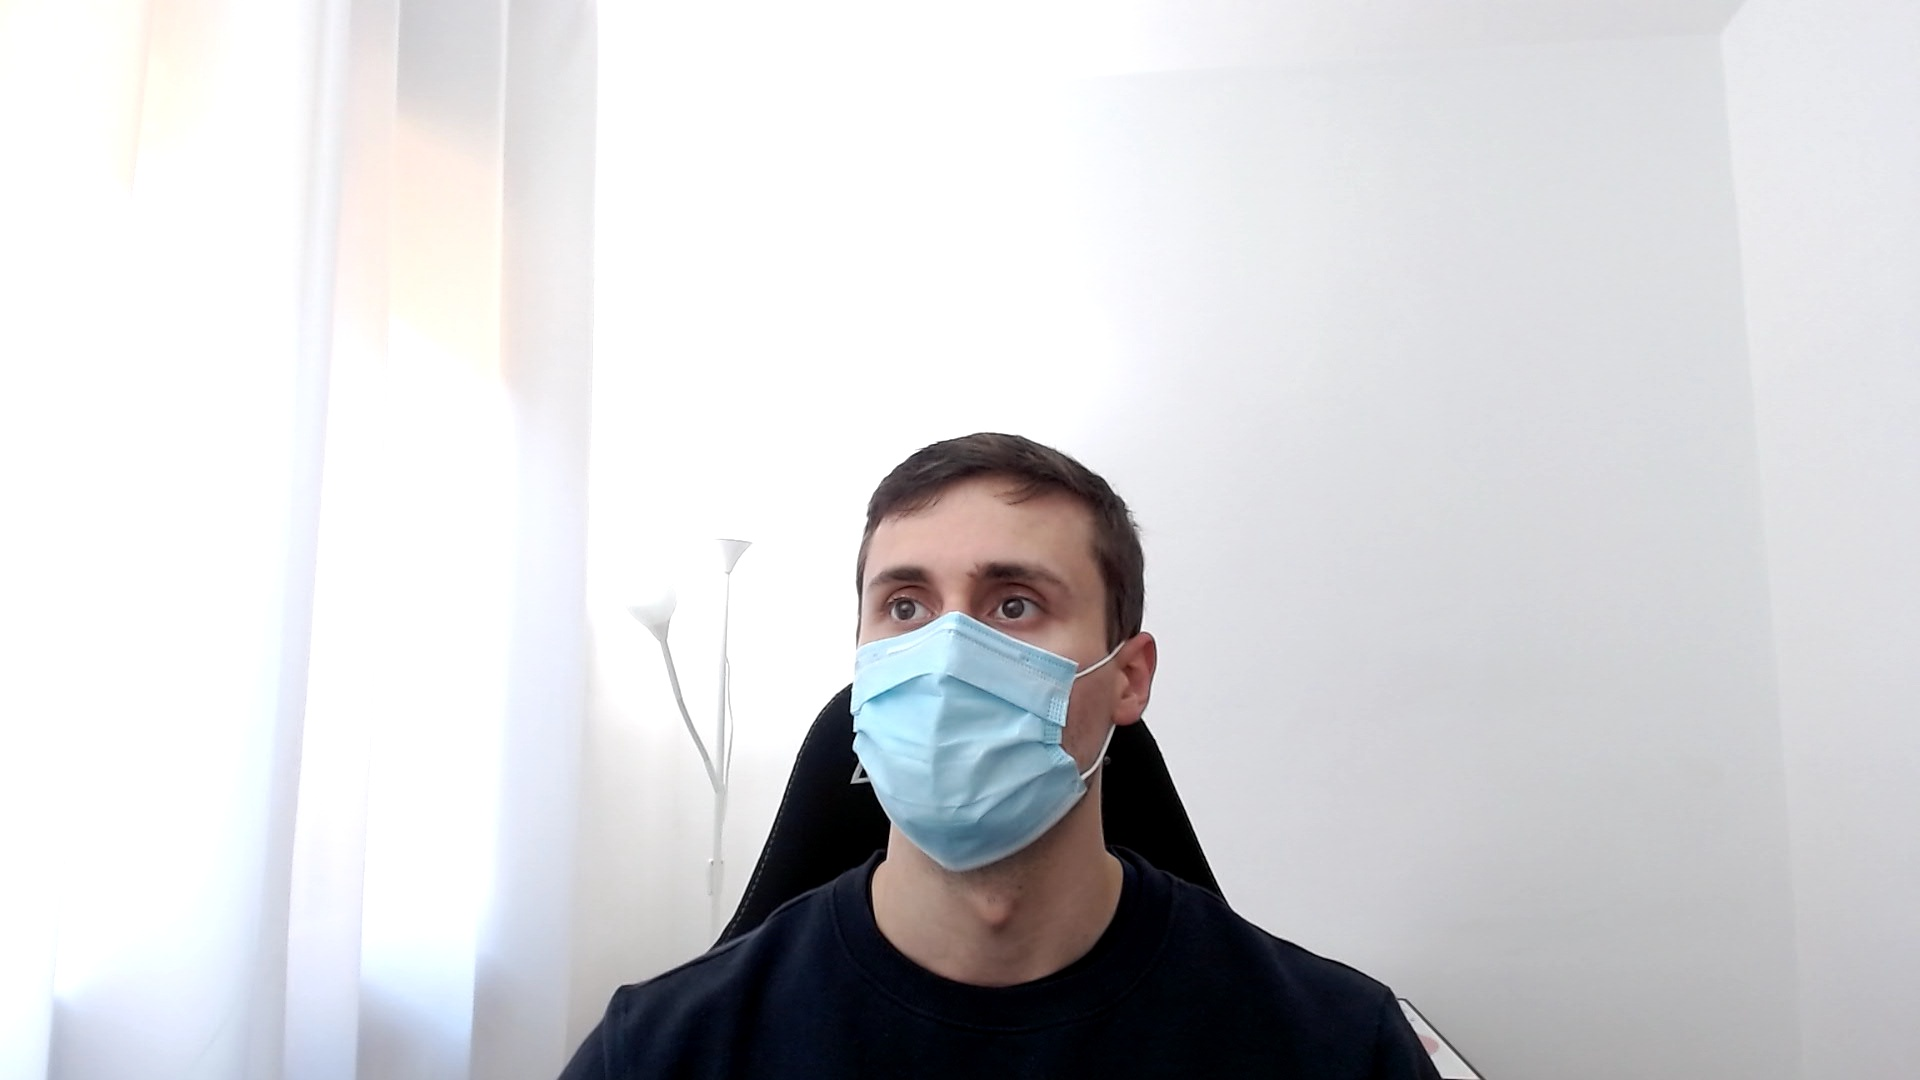Mask: (849, 433, 1158, 872)
